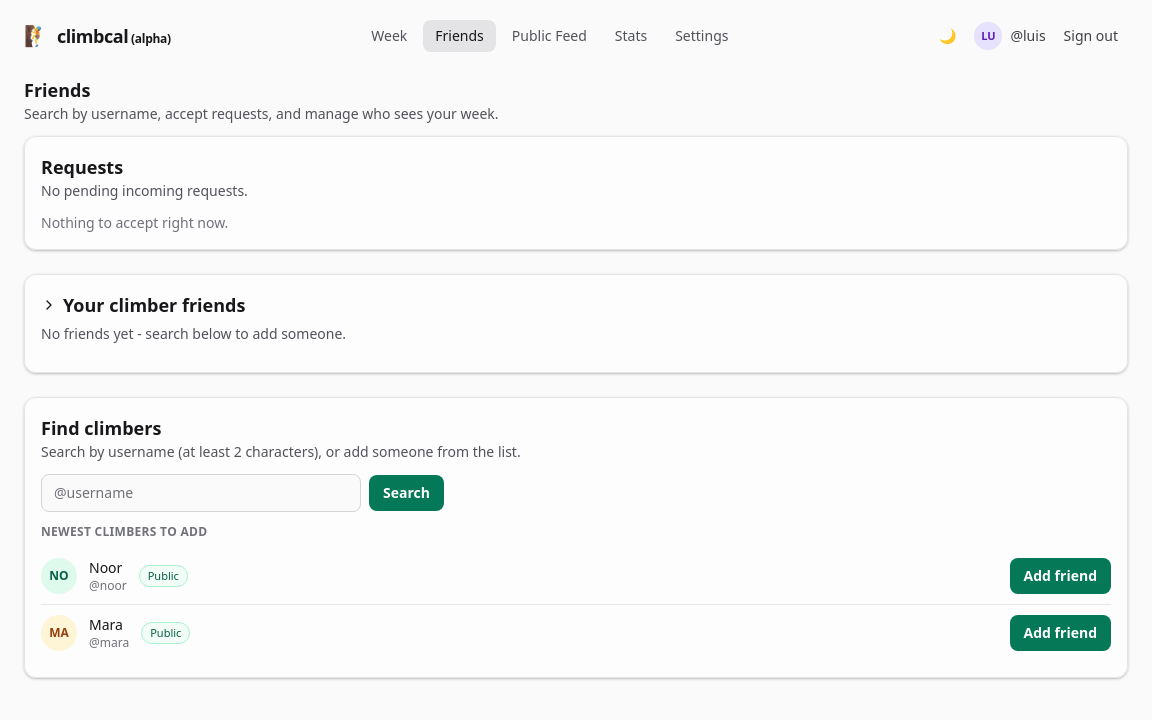
<Friends /> find climbers › moves a climber into "Sent requests" once added from the list
Click the button "Add friend" in the row of "@noor" at (1060, 576), box top-left (1010, 558), bottom-right (1111, 594)
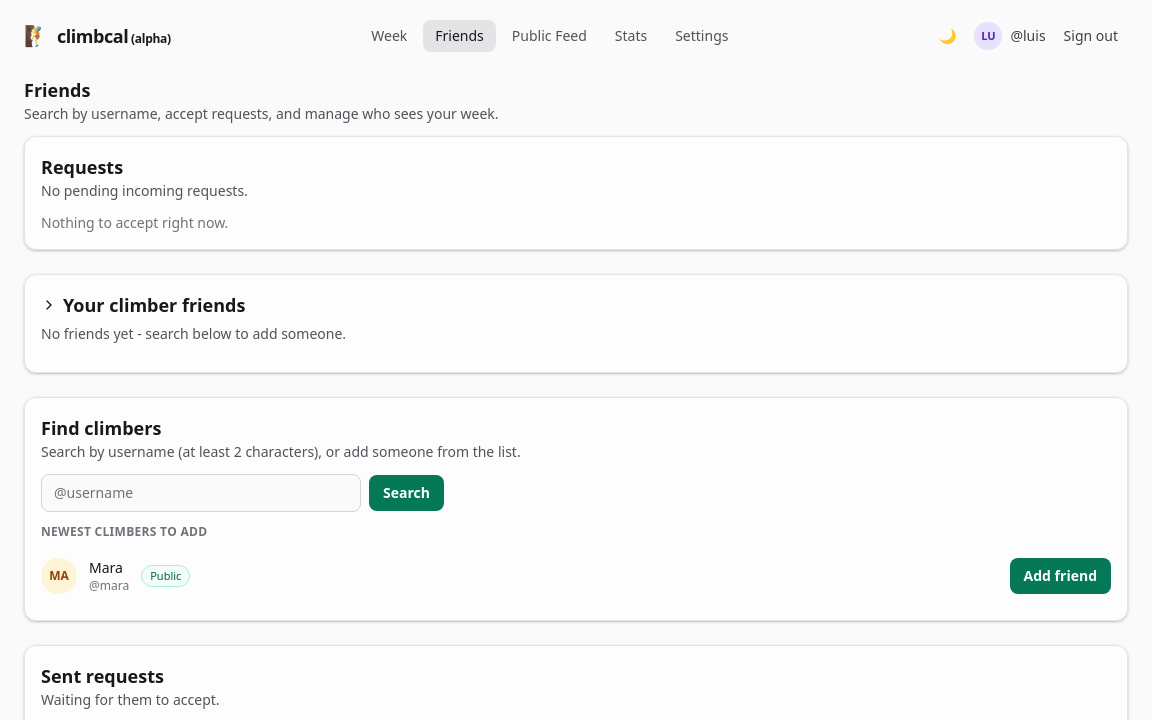
Expected: the number of buttons "Add friend" is 1, top-left (1010, 558), bottom-right (1111, 594)
Expected: the heading "Sent requests" is shown, top-left (41, 664), bottom-right (164, 688)
